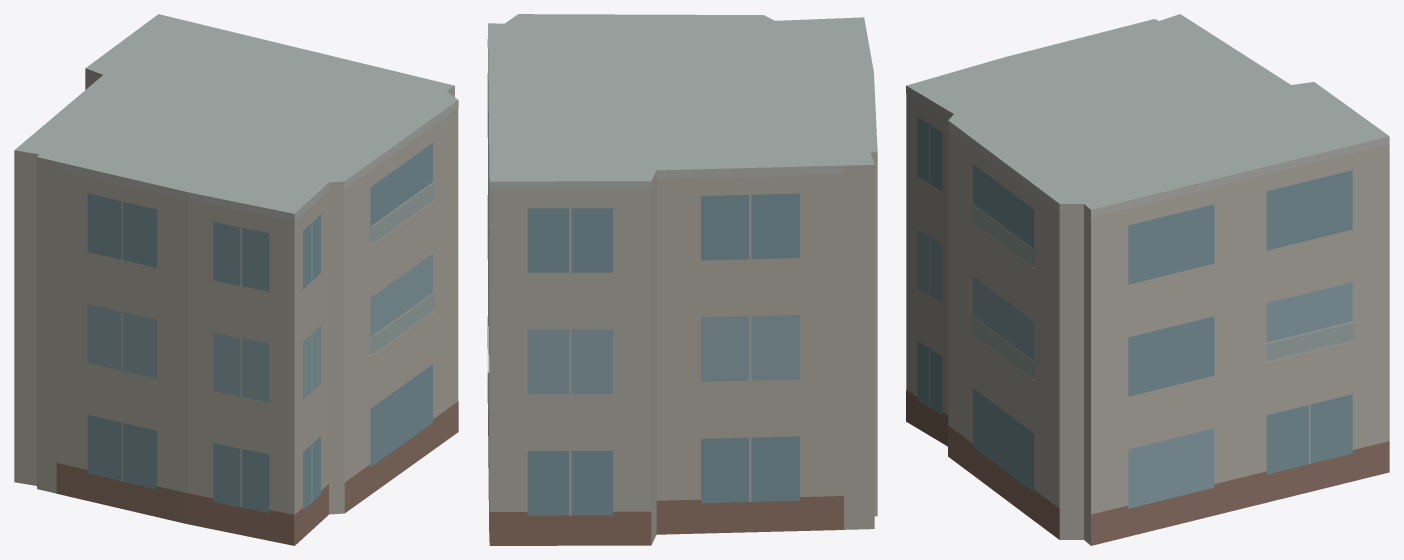
The model's file is survey-upis-32621613.glb.
The picture shows the model from 3 angles, left to right: view 1: azimuth 30°, elevation 25°; view 2: azimuth 150°, elevation 25°; view 3: azimuth 270°, elevation 25°; orthographic projection. The views are drawn at different scales.
Visible parts, largest first — view 1: survey-upis-32621613.tmp; view 2: survey-upis-32621613.tmp; view 3: survey-upis-32621613.tmp.
Boxes of the visible parts, left/top/right/bottom form: survey-upis-32621613.tmp: left=14, top=14, right=458, bottom=545; survey-upis-32621613.tmp: left=487, top=14, right=877, bottom=545; survey-upis-32621613.tmp: left=906, top=14, right=1389, bottom=545.
Size of the model in its own units: 12.76 by 10.2 by 13.31.
